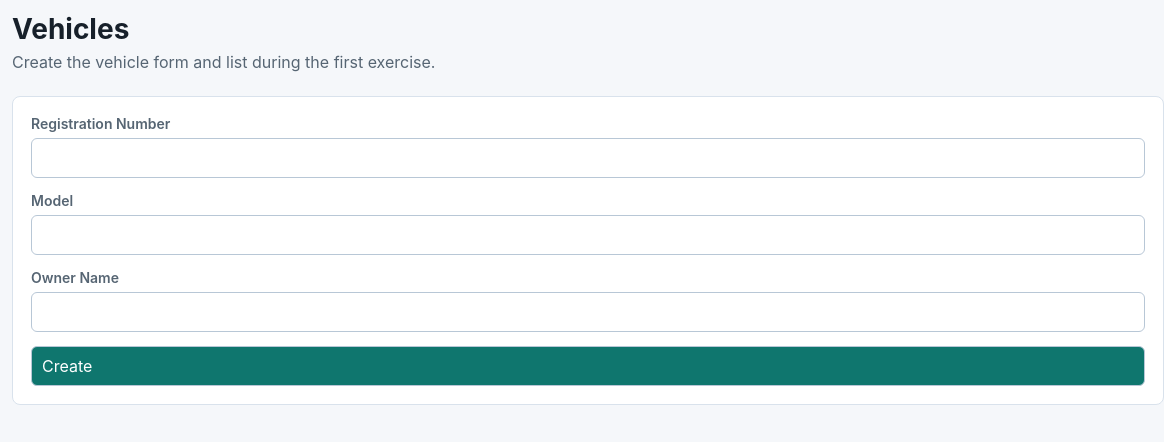
Scenario: VehiclePage training exercises › shows a success message after a vehicle is created
Type "17-09-VI" into the field labelled "Registration Number".
click(588, 158); type("17-09-VI")  # box [31, 138, 1145, 178]
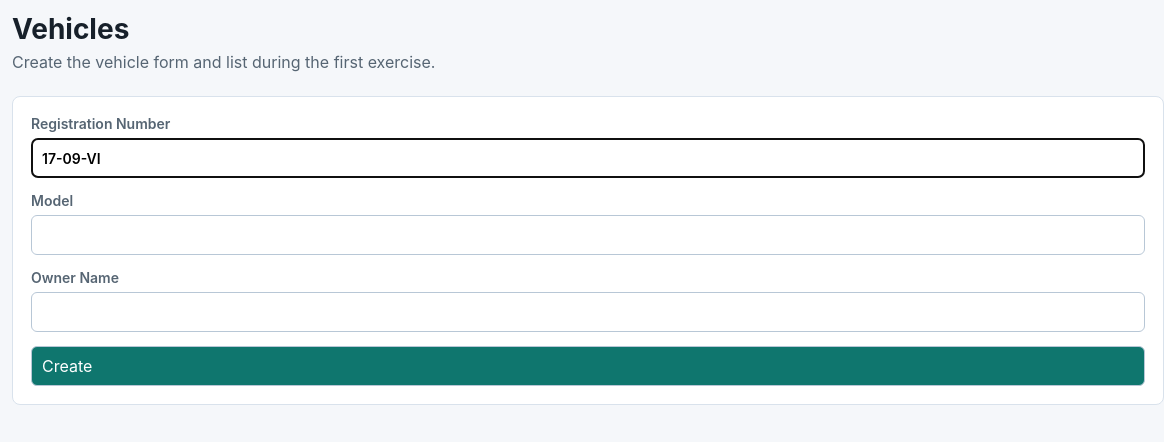
Type "Laguna" into the field labelled "Model".
click(588, 235); type("Laguna")  # box [31, 215, 1145, 255]
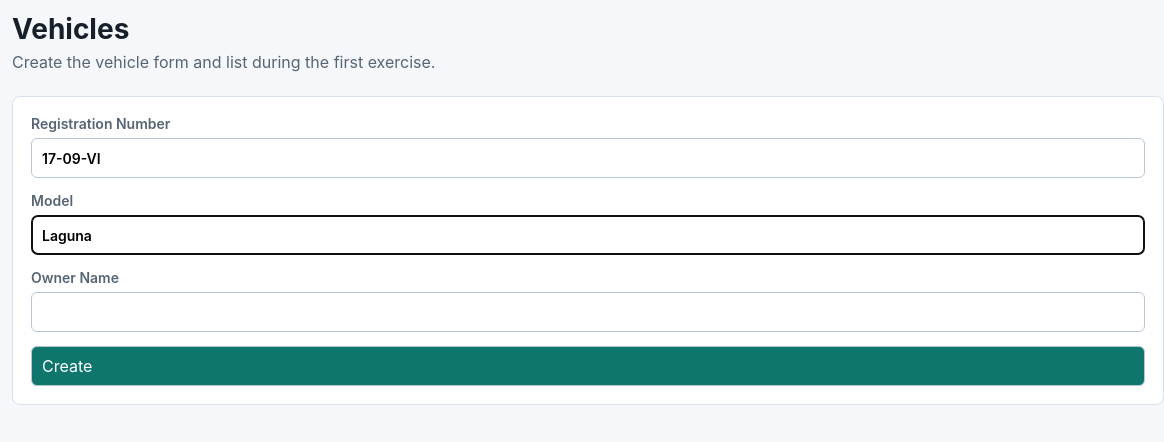
Type "Luis" into the field labelled "Owner Name".
click(588, 312); type("Luis")  # box [31, 292, 1145, 332]
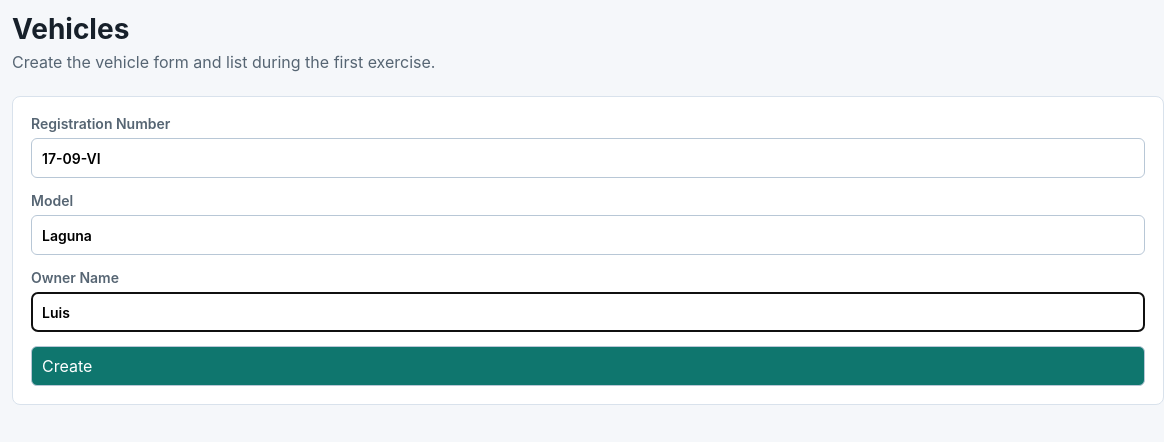
Click the button "Create".
click(67, 366)  # box [31, 346, 1145, 386]
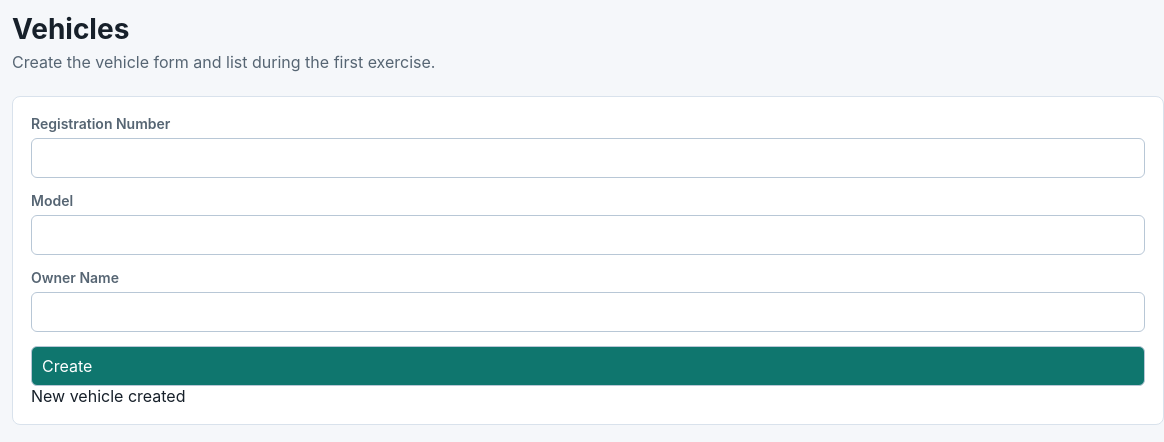
Expected: the message reads "New vehicle created", [31, 386, 186, 406]
